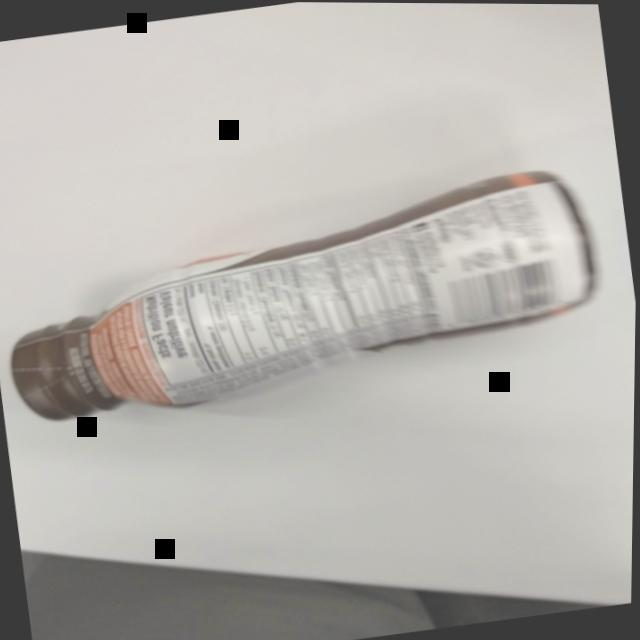chocolate_drink: (0, 152, 620, 443)
